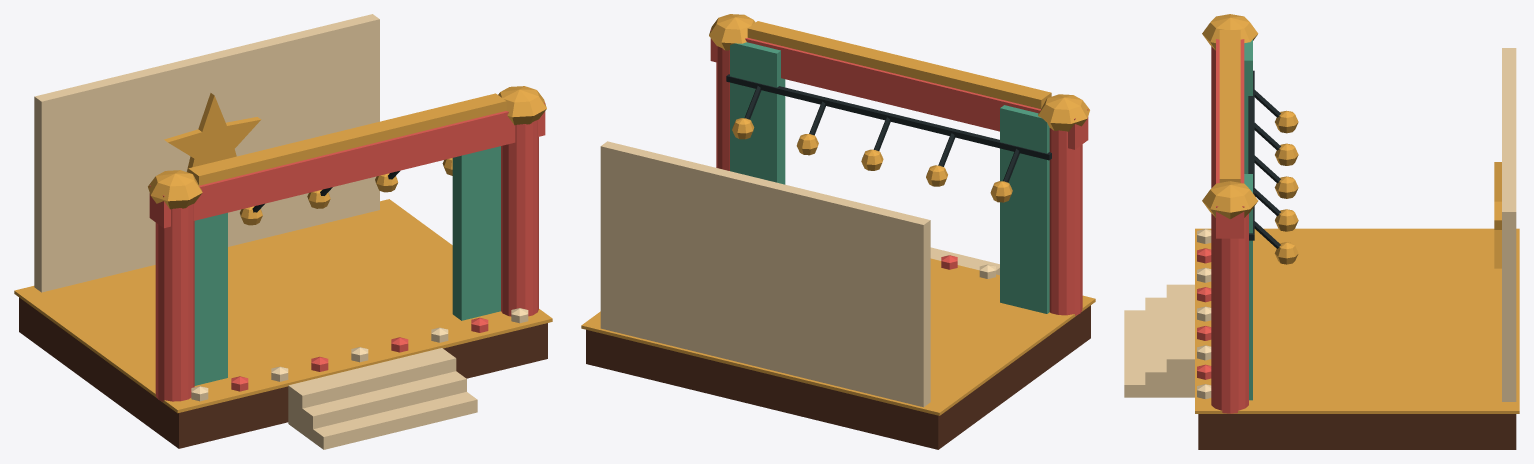
File: ParkParkShowStage.obj
3 views of the same model, side by side, from view 1: azimuth 30°, elevation 25°; view 2: azimuth 150°, elevation 25°; view 3: azimuth 270°, elevation 25° (orthographic). The views are drawn at different scales.
Visible parts, largest first — view 1: ParkParkShowStage; view 2: ParkParkShowStage; view 3: ParkParkShowStage.
Part boxes in pixels (box(x1,y1,x2,y2)): ParkParkShowStage: box(14, 14, 552, 449); ParkParkShowStage: box(581, 14, 1095, 449); ParkParkShowStage: box(1124, 14, 1519, 449).
Size of the model in its own units: 12.8 by 8.1 by 11.2.
